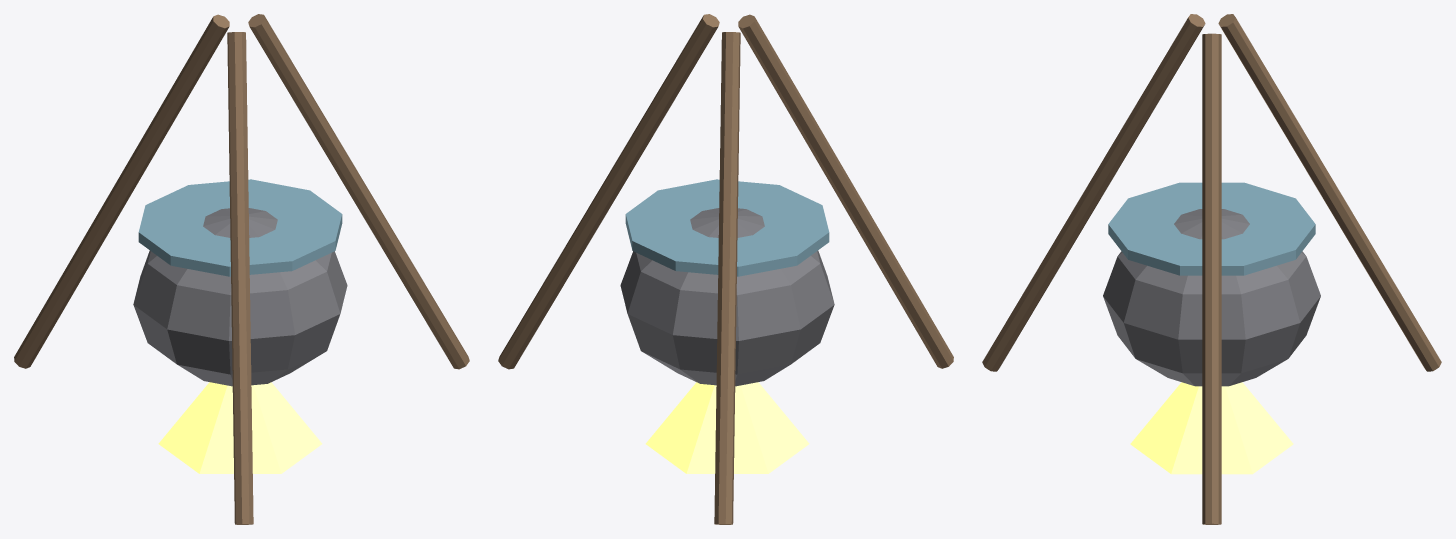
Rendered from cooking_pot.glb.
The picture shows the model from 3 angles, left to right: view 1: azimuth 30°, elevation 25°; view 2: azimuth 150°, elevation 25°; view 3: azimuth 270°, elevation 25°; orthographic projection.
Parts seen in each view (by area): view 1: cooking_pot; view 2: cooking_pot; view 3: cooking_pot.
Part boxes in pixels (x1=…): cooking_pot: x1=14, y1=14, x2=469, y2=524; cooking_pot: x1=498, y1=14, x2=953, y2=524; cooking_pot: x1=982, y1=14, x2=1441, y2=524.
Size of the model in its own units: 1.45 by 1.71 by 1.68.
